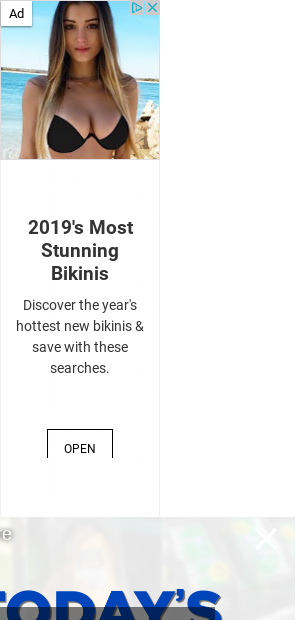fake_button: (41, 414, 128, 472), (0, 0, 35, 35)
